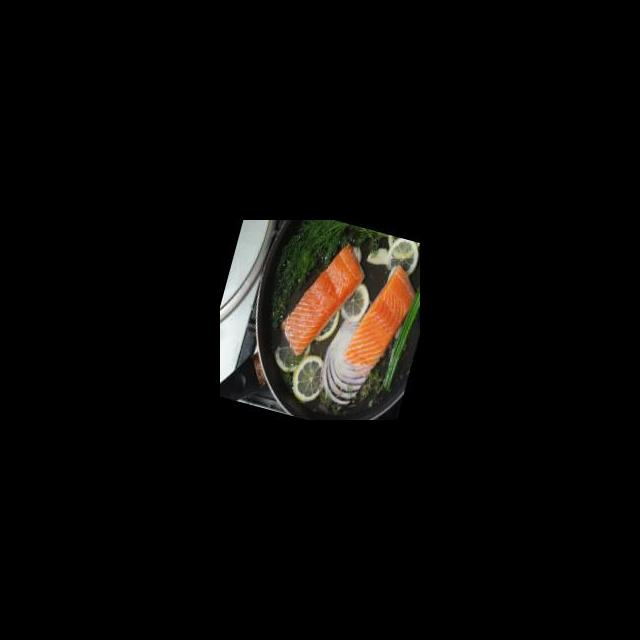ca hoi: (274, 232, 371, 368), (340, 258, 420, 387)
